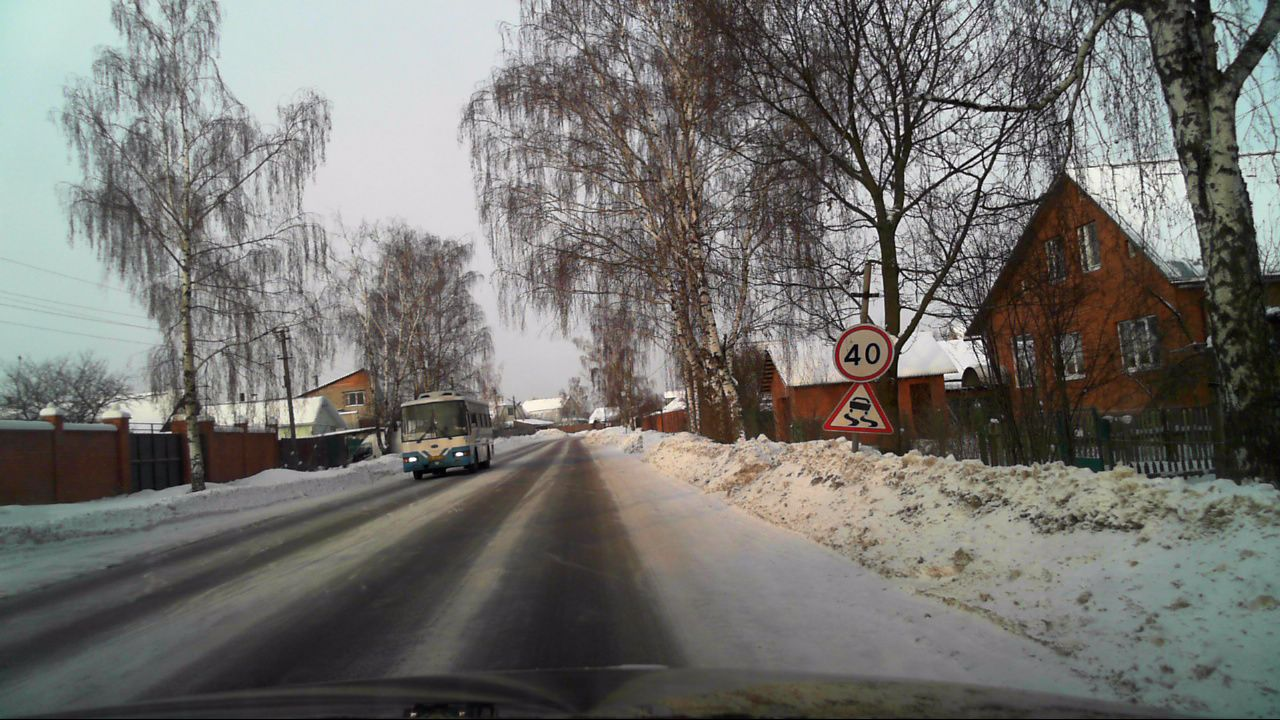speed_warning_40: (834, 326, 892, 384)
